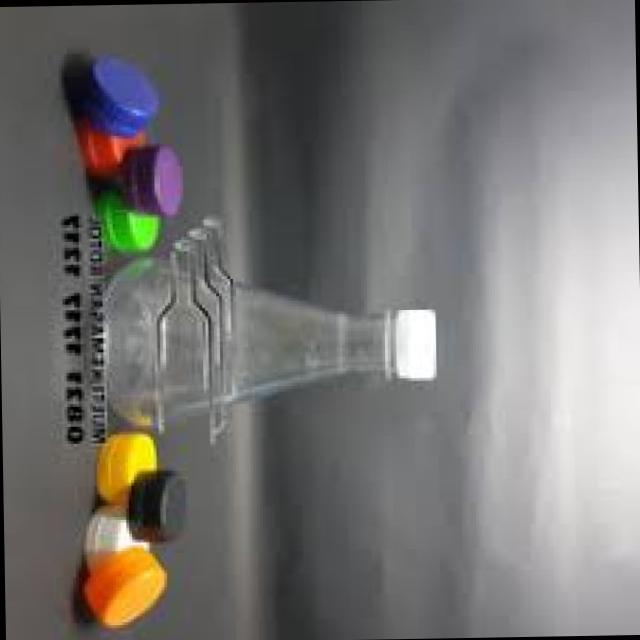good: (65, 236, 462, 424)
